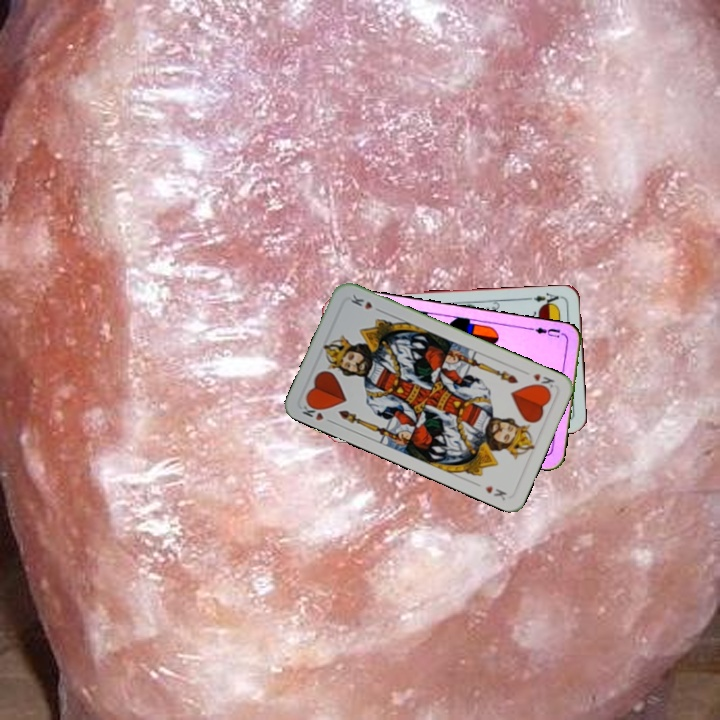EA: (524, 289, 561, 309)
EU: (527, 323, 568, 340)
HK: (298, 398, 336, 426), (529, 369, 557, 393)
